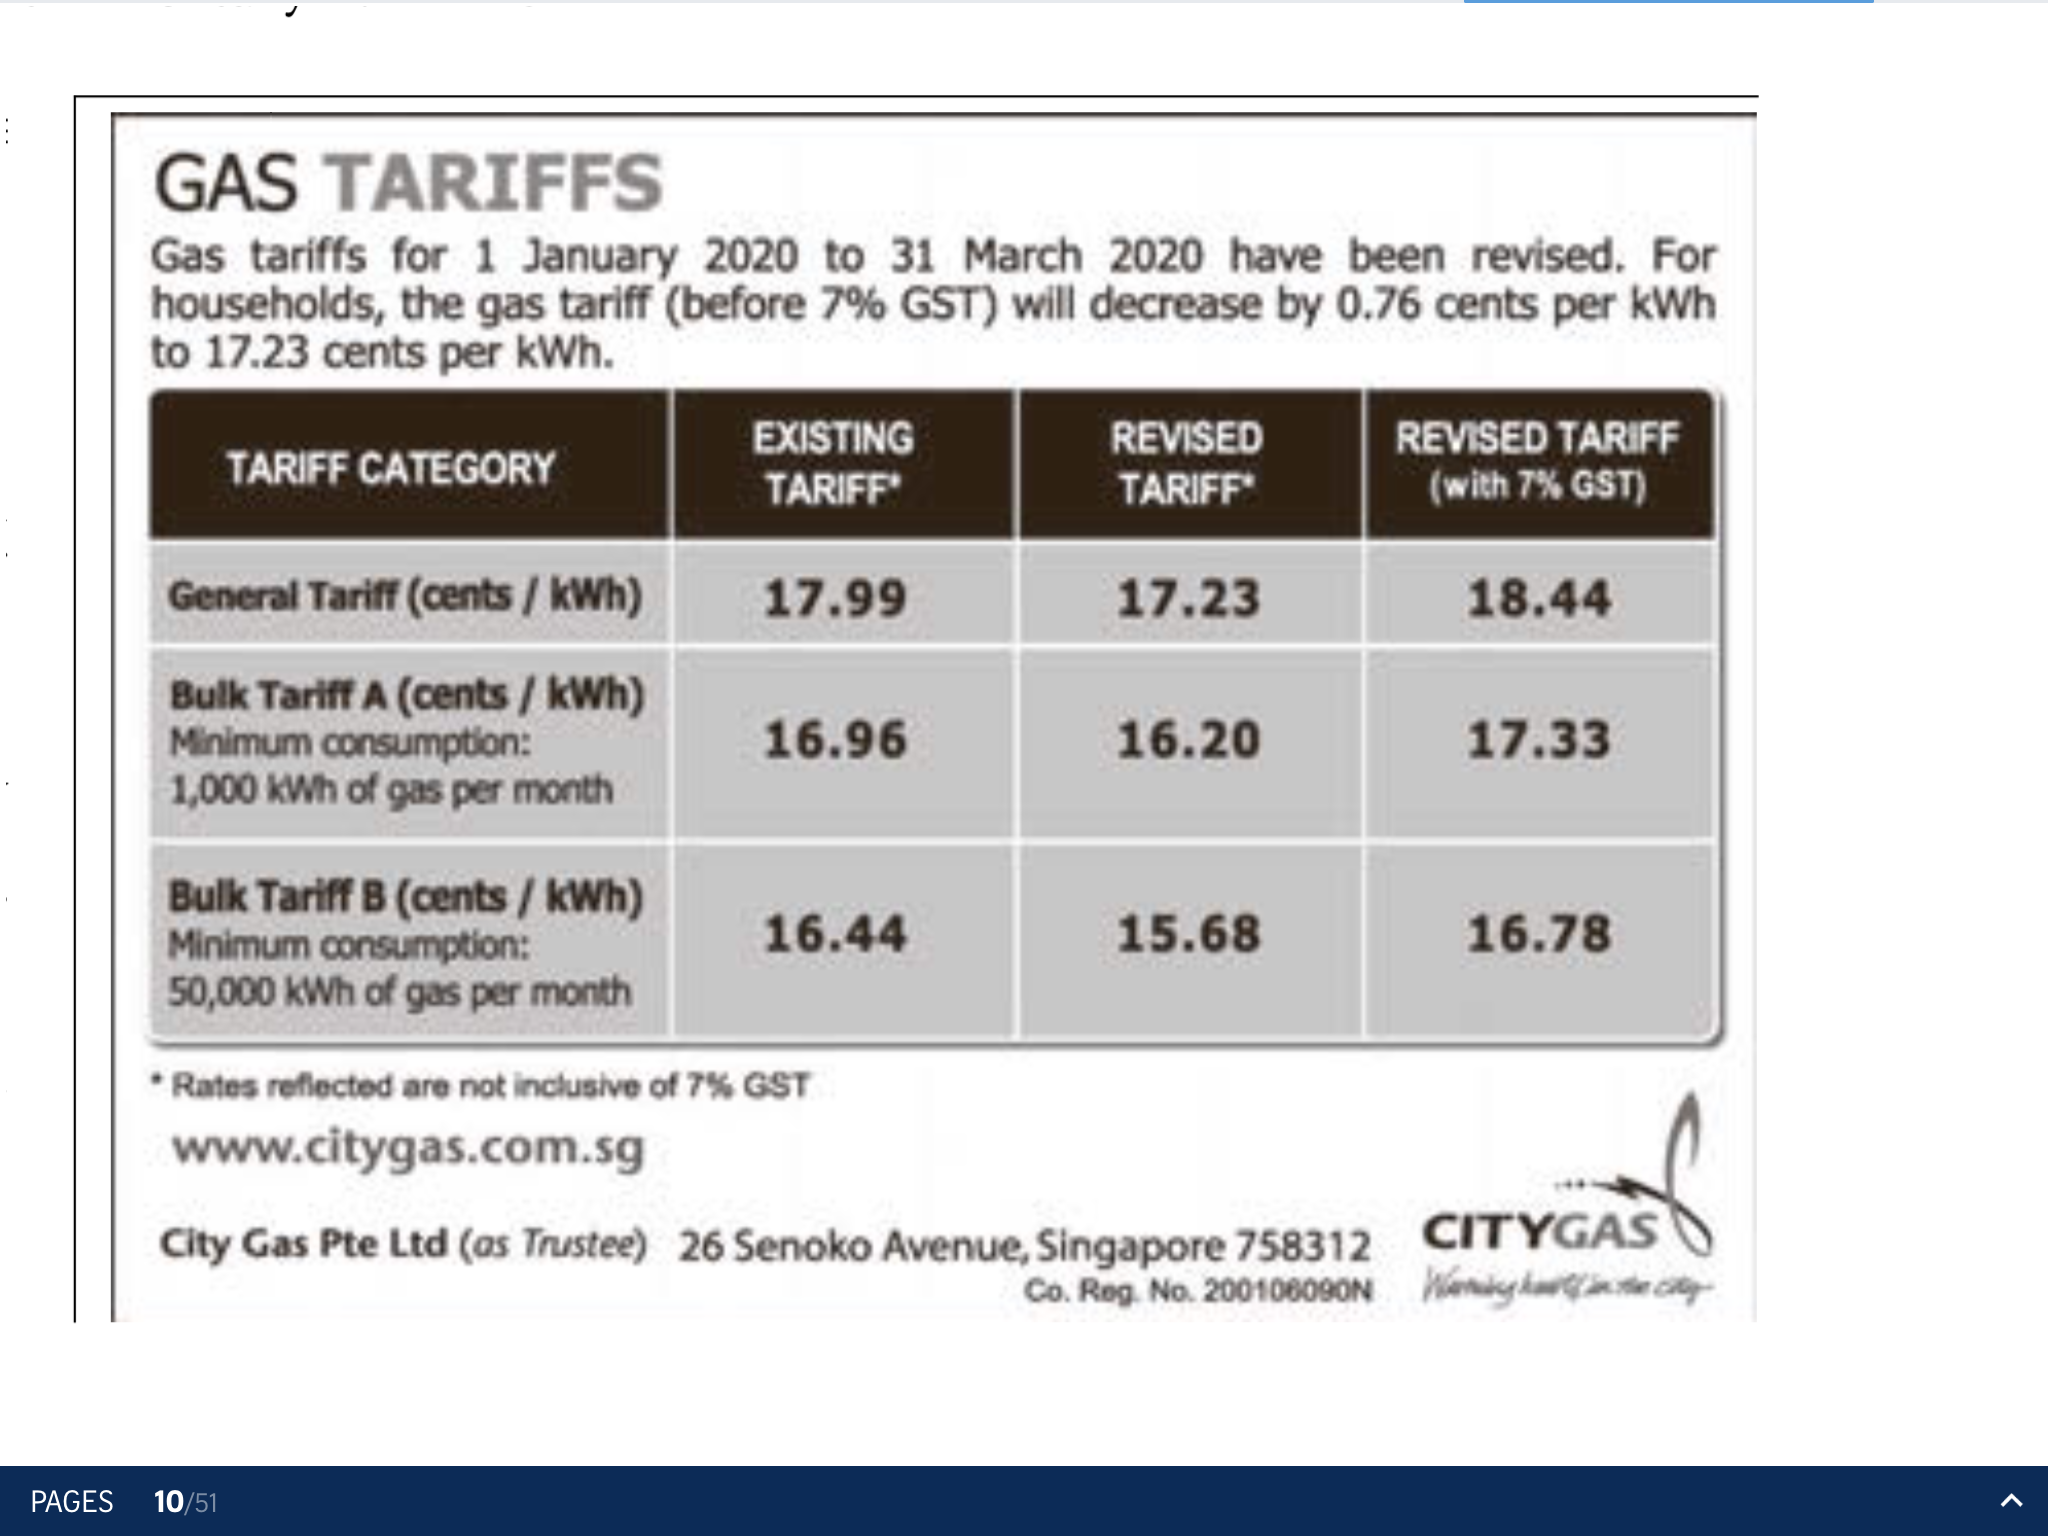Headline: (147, 137, 668, 224)
Illustration: (140, 1055, 830, 1120)
Image: (137, 378, 1730, 1055)
Text: (140, 227, 1734, 381)
